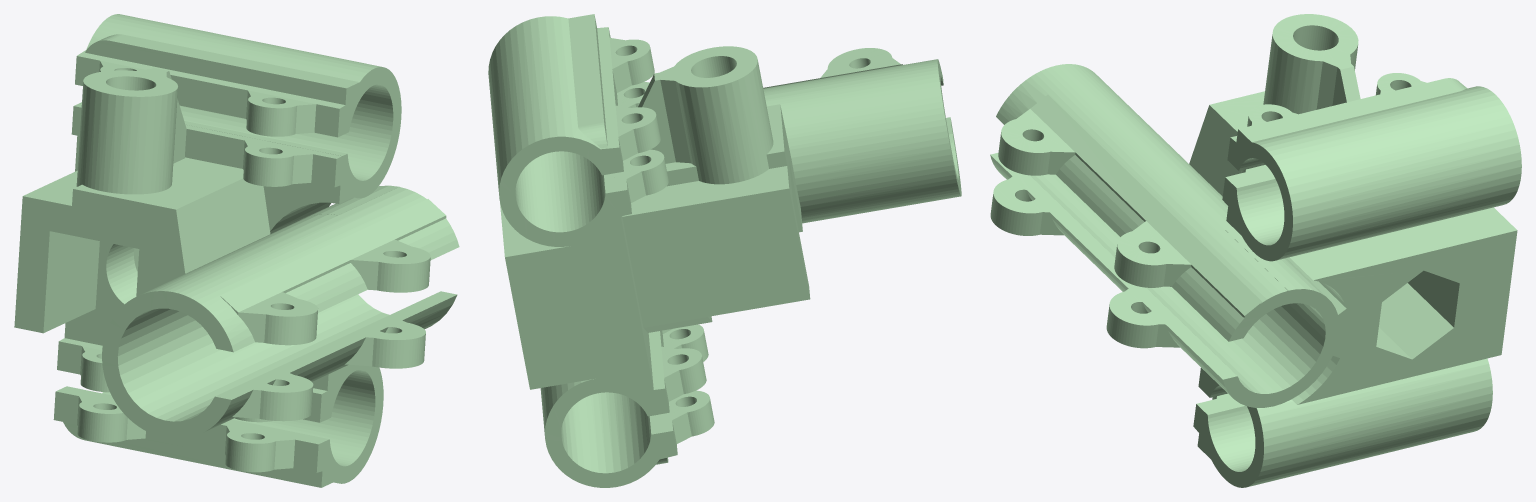
File: gear2_0.dae
3 renders of one model, left to right at view 1: azimuth 30°, elevation 25°; view 2: azimuth 150°, elevation 25°; view 3: azimuth 270°, elevation 25°, orthographic. The views are drawn at different scales.
Parts seen in each view (by area): view 1: gear2_019; view 2: gear2_019; view 3: gear2_019.
Boxes of the visible parts, x1,y1,x2,y2 form: gear2_019: (14, 14, 459, 487); gear2_019: (488, 14, 961, 487); gear2_019: (990, 14, 1521, 487).
Size of the model in its own units: 0.0776 by 0.0922 by 0.0726.
